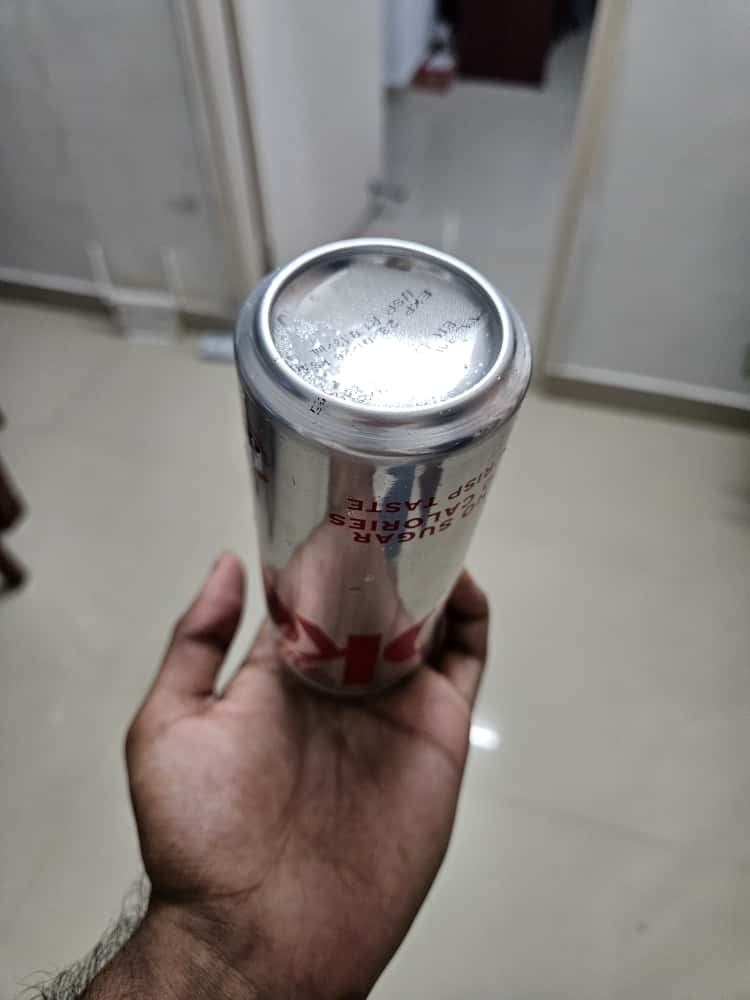dry: (231, 241, 530, 704)
